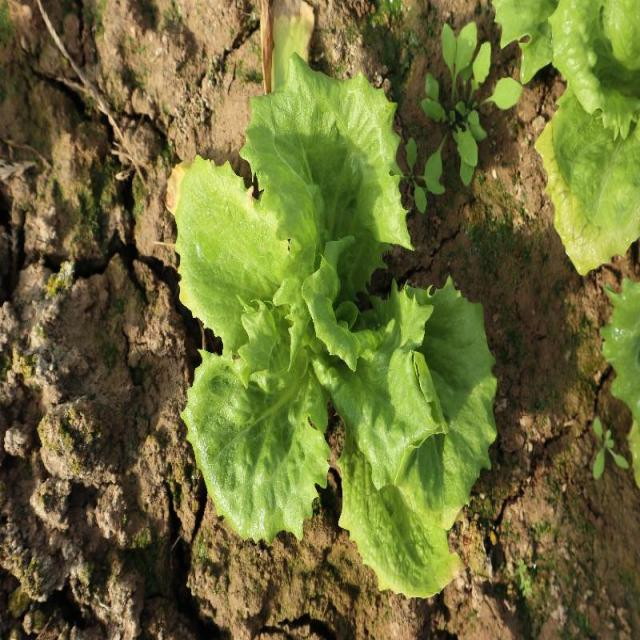crop: (170, 52, 497, 602)
